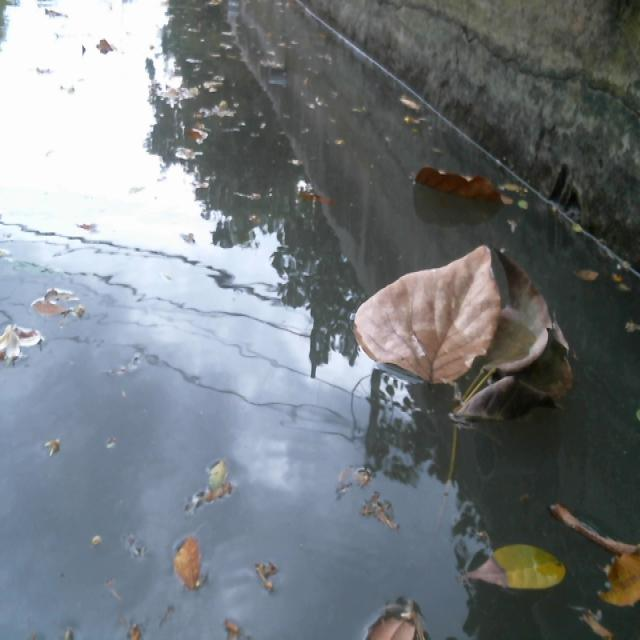Big-leaf: (349, 234, 505, 398), (440, 247, 572, 427), (542, 491, 640, 611), (418, 160, 528, 218)
Small-leaf: (471, 543, 566, 611), (198, 446, 244, 520), (292, 179, 350, 237), (365, 594, 434, 640), (164, 538, 211, 597), (387, 89, 428, 127)
